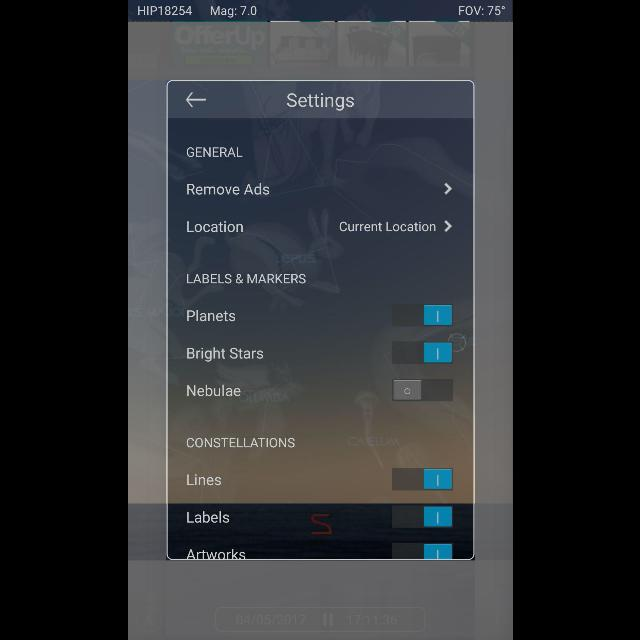icon: (185, 92, 205, 108), (442, 220, 452, 232), (443, 183, 451, 195)
panel: (166, 80, 474, 560)
switch: (392, 506, 452, 528), (392, 468, 452, 490), (392, 379, 452, 401), (392, 342, 452, 364), (392, 304, 452, 326), (392, 543, 452, 559)
text: (338, 220, 436, 233), (286, 93, 354, 111), (186, 346, 262, 362), (187, 274, 306, 284), (186, 438, 294, 448), (187, 184, 269, 196), (187, 385, 240, 397), (186, 549, 244, 559), (187, 310, 235, 322), (186, 222, 242, 232), (186, 511, 228, 523), (186, 148, 242, 156), (186, 474, 220, 486)
uppertaskbar: (128, 1, 512, 23)
